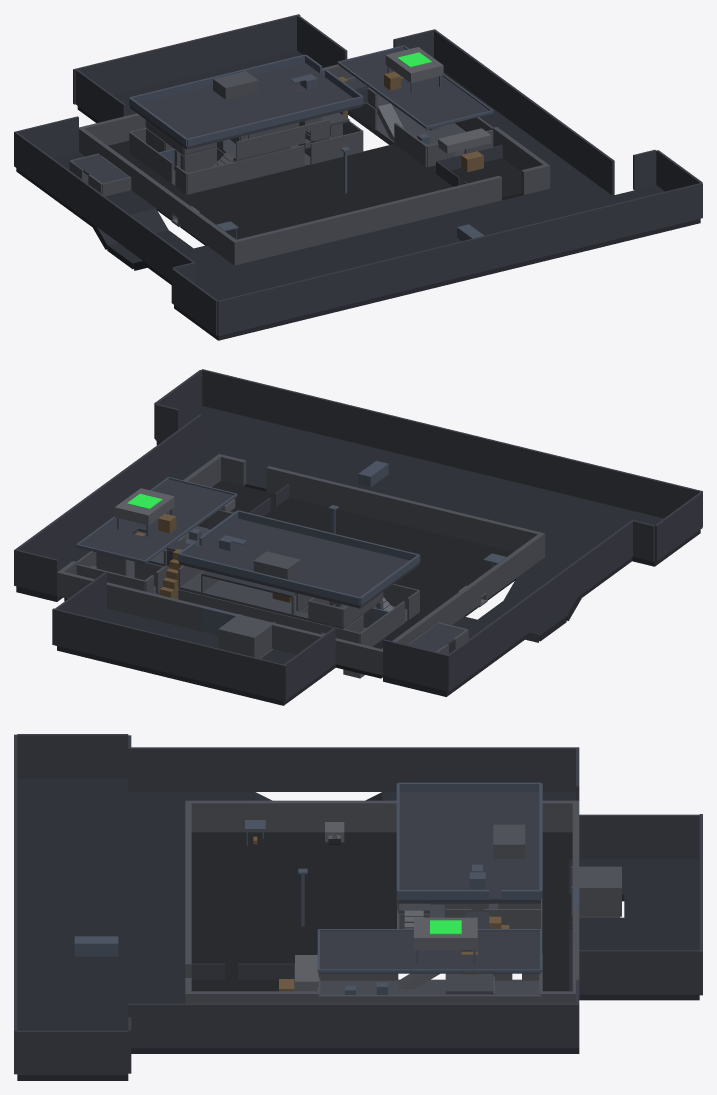
File: holloway_campus.glb
The picture shows the model from 3 angles, top to bottom: view 1: azimuth 30°, elevation 25°; view 2: azimuth 150°, elevation 25°; view 3: azimuth 270°, elevation 25°; orthographic projection. The views are drawn at different scales.
Parts seen in each view (by area): view 1: perimeter, yards, main_roof, gym, main_ground, main_1f, undercroft; view 2: perimeter, main_roof, yards, gym, main_ground, main_1f, undercroft, alley; view 3: perimeter, yards, main_roof, gym, main_1f.
Part boxes in pixels (x1,y1,x2,y2): perimeter: [14, 14, 702, 340]; yards: [108, 128, 523, 245]; main_roof: [129, 54, 363, 149]; gym: [337, 45, 493, 167]; main_ground: [129, 121, 363, 194]; main_1f: [145, 111, 349, 161]; undercroft: [69, 153, 131, 196]; perimeter: [14, 369, 702, 705]; main_roof: [178, 510, 420, 608]; yards: [64, 480, 515, 678]; gym: [76, 477, 237, 594]; main_ground: [178, 584, 419, 646]; main_1f: [178, 565, 383, 629]; undercroft: [343, 622, 468, 678]; alley: [159, 541, 198, 599]; perimeter: [14, 734, 702, 1080]; yards: [191, 820, 572, 991]; main_roof: [396, 782, 542, 903]; gym: [317, 917, 542, 1003]; main_1f: [397, 899, 540, 928].
Size of the model in its own units: 88.8 by 14.6 by 86.8.
